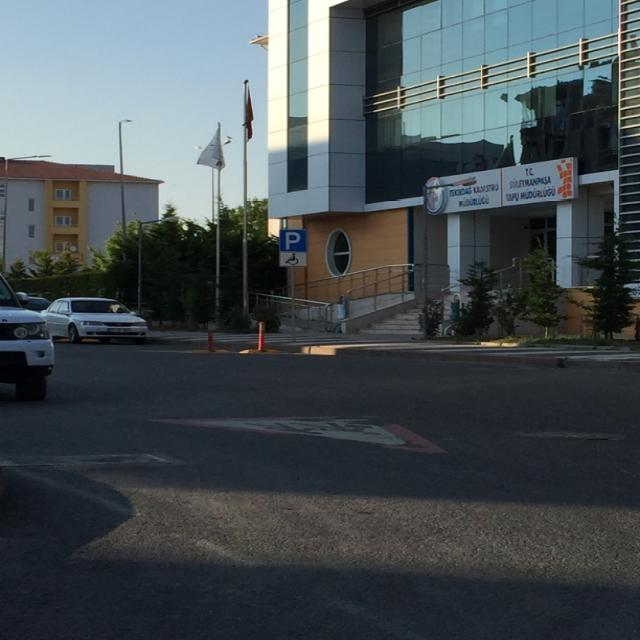park: (282, 229, 308, 253)
